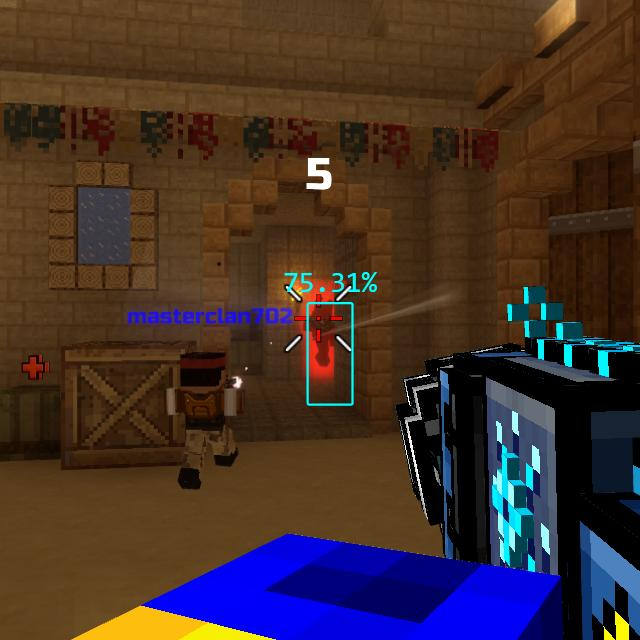Enemy: (303, 304, 334, 369)
